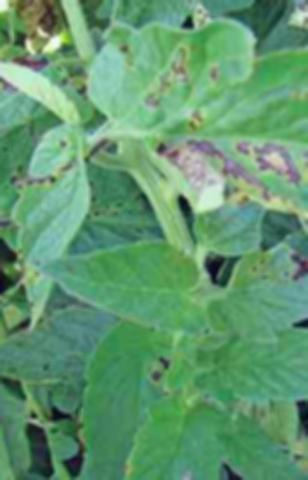Tomato Early blight leaf: (66, 14, 308, 247)
Tomato leaf: (23, 244, 214, 334), (208, 414, 308, 480), (218, 338, 308, 400)
